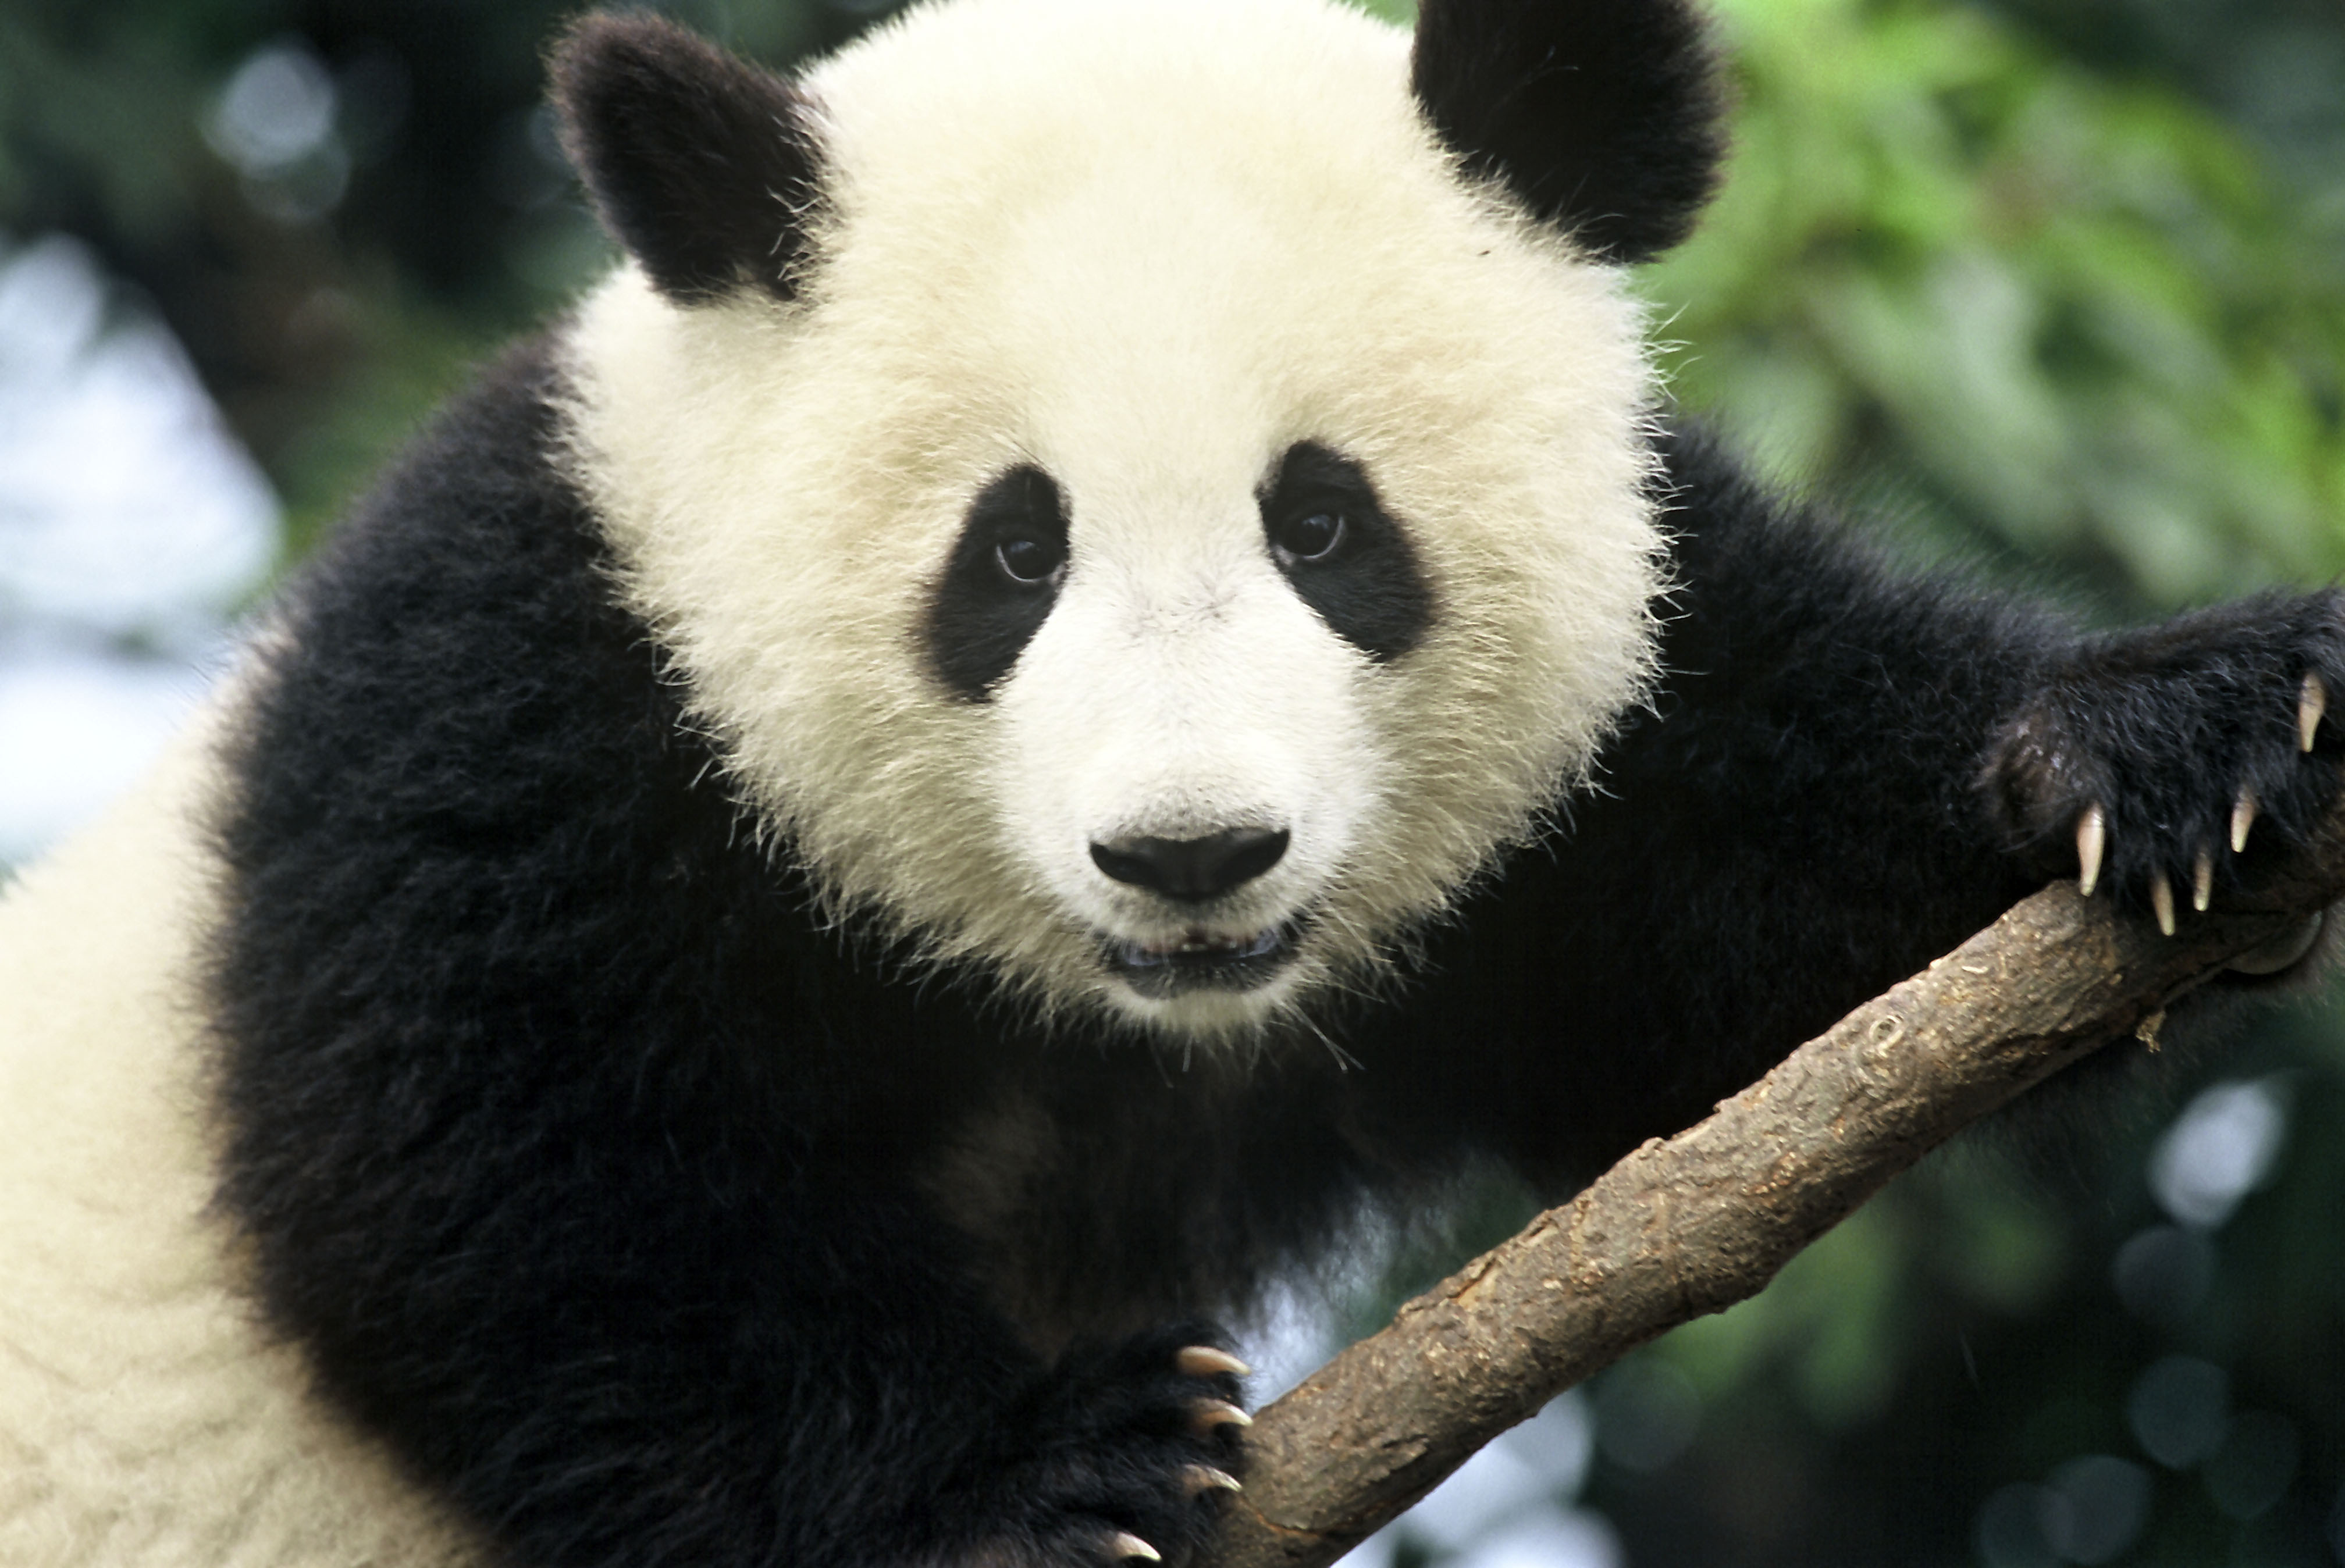panda: (166, 12, 2310, 1554)
